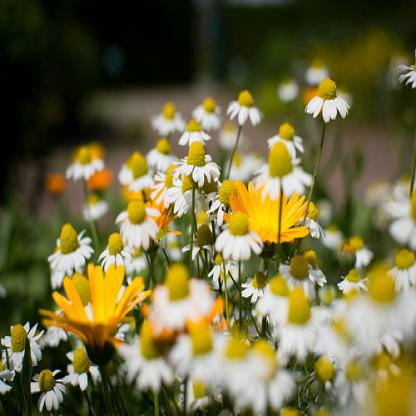ASTER: (9, 10, 411, 410)
